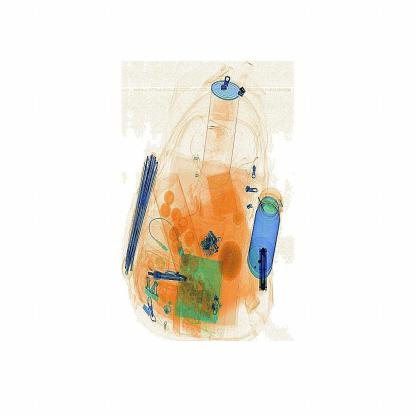scissors: (254, 240, 273, 298)
